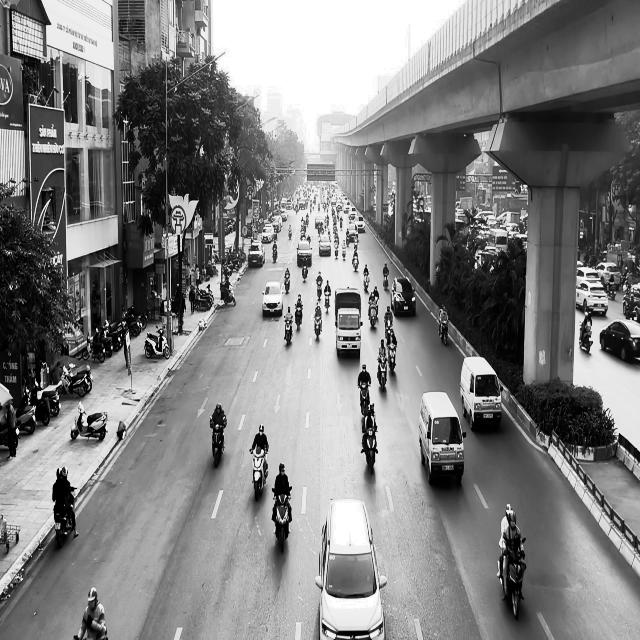car: (315, 498, 387, 640), (599, 318, 640, 363), (392, 277, 416, 316), (262, 280, 283, 317)
motorbike: (496, 536, 526, 620), (70, 401, 108, 440), (53, 487, 77, 548), (271, 487, 292, 552), (249, 446, 268, 501), (361, 418, 378, 474), (209, 415, 226, 467), (144, 324, 170, 358), (578, 321, 593, 353), (358, 383, 370, 415), (377, 352, 387, 390), (387, 341, 397, 372), (438, 316, 448, 346), (311, 313, 322, 340), (368, 300, 378, 328), (284, 315, 293, 345), (294, 305, 303, 330), (362, 270, 370, 292), (324, 289, 331, 313), (302, 260, 308, 282), (284, 272, 290, 294)
